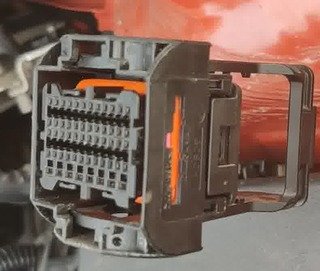connector: (30, 34, 222, 258)
